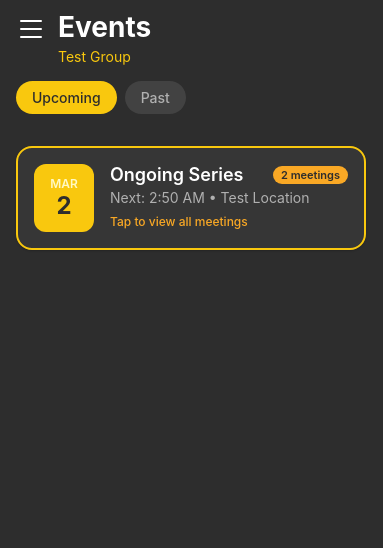
Test: MeetingsScreen › should hide series in past view when last event is still upcoming
Switch to past view
Click the text "Past". click: (155, 98)
box: [141,89,170,106]
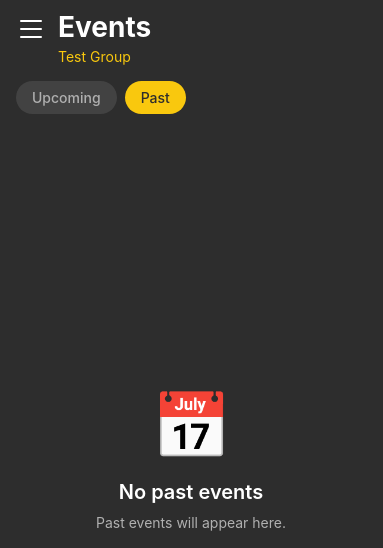
Expected: the text "Ongoing Series" is gone
